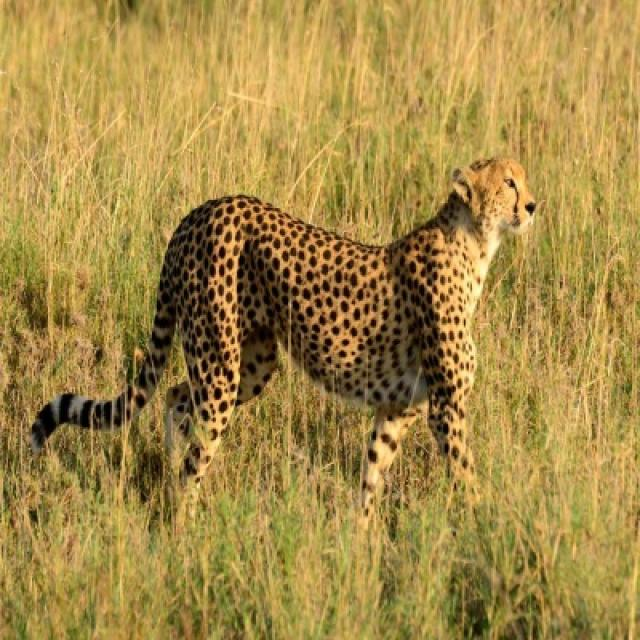Cheetah: (32, 157, 534, 514)
